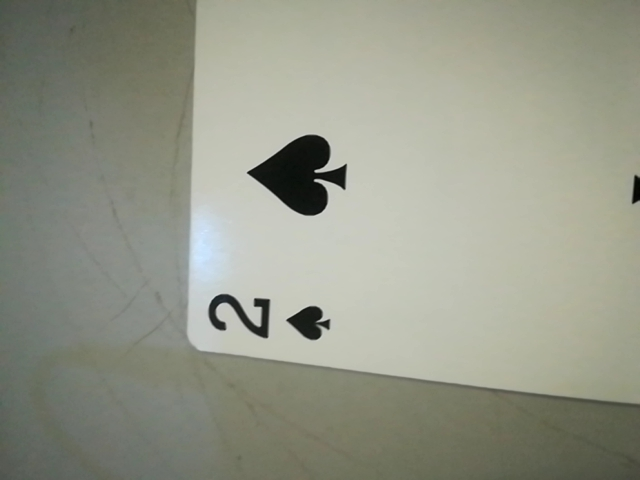ht 2: (191, 279, 350, 360)
